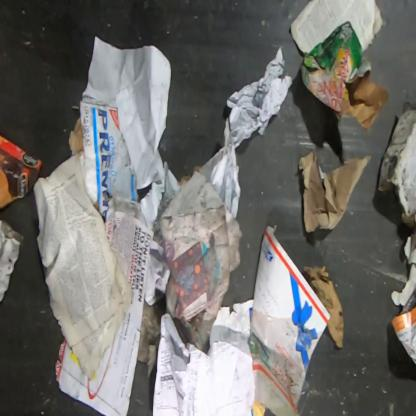cardboard: (248, 224, 332, 415), (302, 19, 392, 133), (68, 101, 140, 219), (304, 264, 344, 349), (0, 132, 43, 210)
